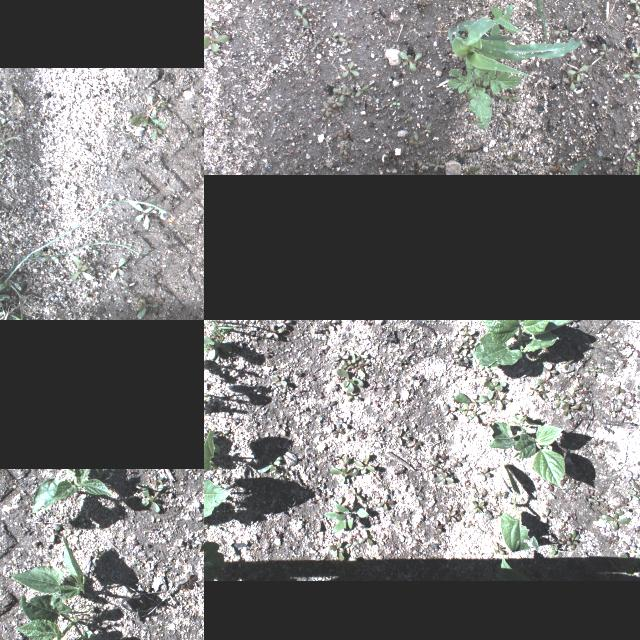crop: (448, 17, 582, 77), (6, 530, 86, 608), (489, 413, 565, 489), (473, 320, 573, 367), (11, 593, 101, 640), (31, 468, 115, 514), (499, 493, 538, 553), (204, 540, 224, 579), (567, 154, 599, 174), (496, 557, 522, 579), (204, 331, 214, 379), (636, 161, 640, 174)
weed: (4, 200, 173, 320), (447, 44, 521, 130), (130, 94, 172, 138), (324, 497, 370, 533), (0, 263, 23, 314), (453, 391, 489, 423), (490, 4, 516, 38), (600, 504, 630, 530), (0, 231, 14, 279), (130, 200, 152, 230), (484, 380, 506, 410), (337, 369, 363, 393), (208, 324, 225, 360), (140, 486, 162, 512), (70, 256, 92, 280), (257, 455, 283, 475), (204, 30, 228, 51), (619, 553, 640, 577), (400, 50, 422, 72), (0, 136, 21, 158), (329, 468, 357, 484), (0, 312, 55, 320), (499, 83, 521, 103), (137, 298, 157, 318), (341, 351, 361, 371), (355, 454, 375, 474), (567, 64, 589, 82), (293, 6, 309, 28), (332, 85, 351, 103), (34, 248, 58, 262), (266, 322, 284, 340), (561, 402, 579, 420), (109, 258, 125, 278), (562, 70, 578, 90), (548, 158, 568, 174), (178, 572, 198, 588), (332, 350, 348, 370), (329, 542, 345, 562), (528, 375, 544, 395), (427, 156, 445, 172), (459, 325, 475, 343), (445, 508, 465, 522), (426, 460, 446, 474), (454, 349, 474, 363), (378, 496, 397, 510), (342, 61, 358, 77), (354, 82, 370, 98), (358, 530, 374, 546), (406, 434, 422, 450), (544, 363, 560, 379), (606, 402, 622, 418), (442, 402, 456, 420), (206, 19, 218, 39), (434, 472, 454, 484), (398, 426, 410, 446), (567, 530, 579, 550), (608, 381, 628, 393), (408, 132, 424, 146), (598, 42, 612, 58), (477, 466, 491, 482), (624, 472, 638, 488), (554, 392, 568, 408), (560, 354, 574, 370), (326, 96, 344, 108), (622, 68, 640, 80), (586, 364, 604, 376), (431, 520, 444, 536), (612, 398, 632, 408), (121, 280, 135, 294), (506, 152, 520, 166), (332, 424, 346, 438), (492, 541, 506, 555), (339, 34, 355, 46), (553, 26, 569, 38), (350, 487, 362, 503), (558, 532, 574, 544), (320, 100, 330, 118), (541, 508, 551, 526), (587, 496, 605, 506), (352, 348, 368, 359), (322, 320, 339, 330), (420, 122, 432, 136), (272, 375, 286, 387), (472, 500, 484, 514), (277, 320, 295, 329), (630, 45, 640, 61), (622, 540, 638, 550), (539, 384, 549, 400), (466, 163, 480, 174), (483, 371, 497, 382), (223, 112, 235, 124), (288, 162, 300, 174), (337, 145, 349, 157), (327, 30, 339, 42), (468, 164, 482, 174), (550, 545, 564, 555), (566, 392, 576, 406), (445, 354, 459, 364), (625, 491, 640, 500), (629, 0, 640, 12), (414, 162, 424, 174), (452, 457, 464, 467), (332, 130, 343, 140), (507, 118, 518, 128), (400, 115, 412, 124), (88, 244, 98, 254), (219, 84, 229, 94), (311, 39, 321, 49), (456, 341, 466, 351), (604, 396, 614, 406), (303, 66, 315, 74), (634, 8, 640, 23), (566, 320, 581, 326), (10, 89, 18, 99), (461, 152, 471, 160), (486, 88, 496, 96), (562, 64, 572, 72), (628, 391, 636, 401), (0, 118, 9, 126), (634, 381, 640, 393), (224, 21, 232, 29), (336, 107, 344, 115), (344, 128, 350, 138), (572, 96, 578, 106), (636, 143, 640, 158), (637, 59, 640, 76), (212, 50, 220, 56), (398, 159, 402, 171), (628, 154, 634, 162), (635, 348, 640, 357), (220, 18, 227, 24), (32, 315, 40, 320), (0, 157, 4, 167), (391, 102, 401, 106), (636, 63, 640, 72), (204, 122, 210, 127), (0, 103, 2, 116), (2, 140, 6, 146), (252, 30, 258, 34)
